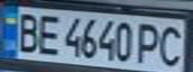0: (115, 18, 136, 63)
4: (60, 15, 84, 57), (97, 17, 118, 62)
6: (78, 15, 100, 60)
B: (9, 9, 42, 54)
C: (154, 21, 187, 68)
E: (33, 11, 63, 56)
P: (136, 20, 163, 65)
